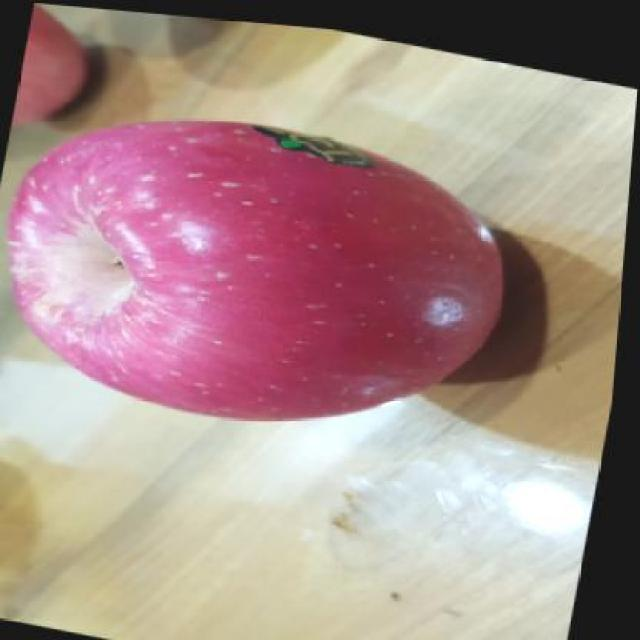Fresh Apple: (14, 121, 502, 414)
